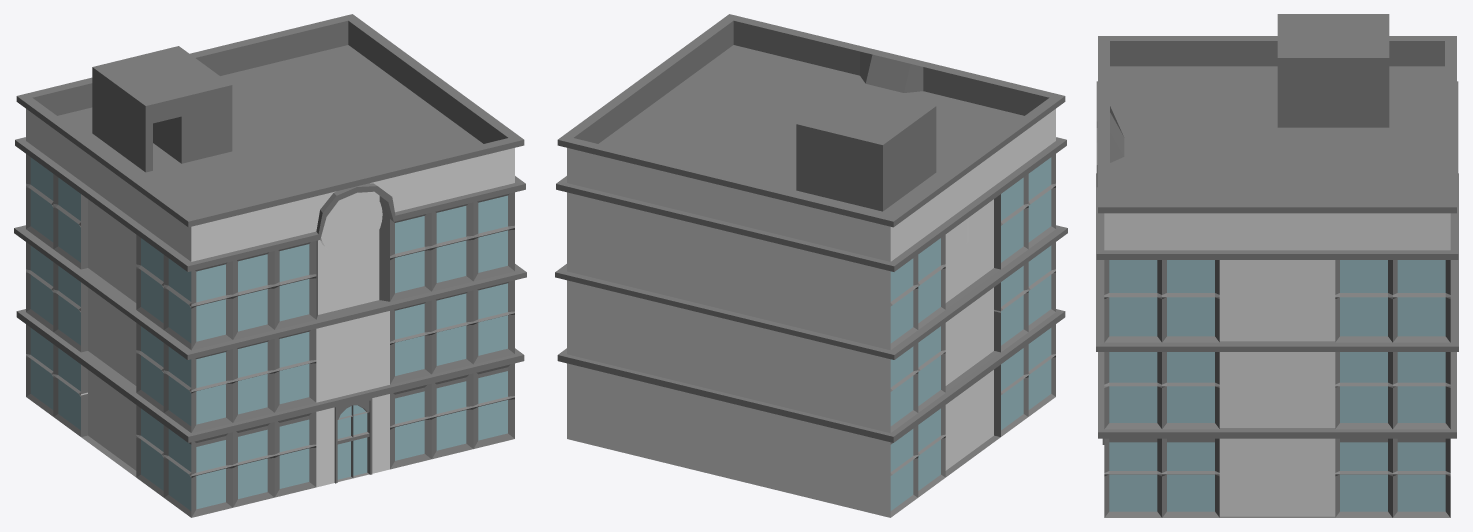
File: building1.fbx
The picture shows the model from 3 angles, left to right: view 1: azimuth 30°, elevation 25°; view 2: azimuth 150°, elevation 25°; view 3: azimuth 270°, elevation 25°; orthographic projection. The views are drawn at different scales.
Visible parts, largest first — view 1: Cube; view 2: Cube; view 3: Cube.
Boxes of the visible parts, x1,y1,x2,y2 form: Cube: (14,14,526,517); Cube: (555,14,1067,517); Cube: (1096,14,1458,517).
Size of the model in its own units: 865 by 834 by 766.
